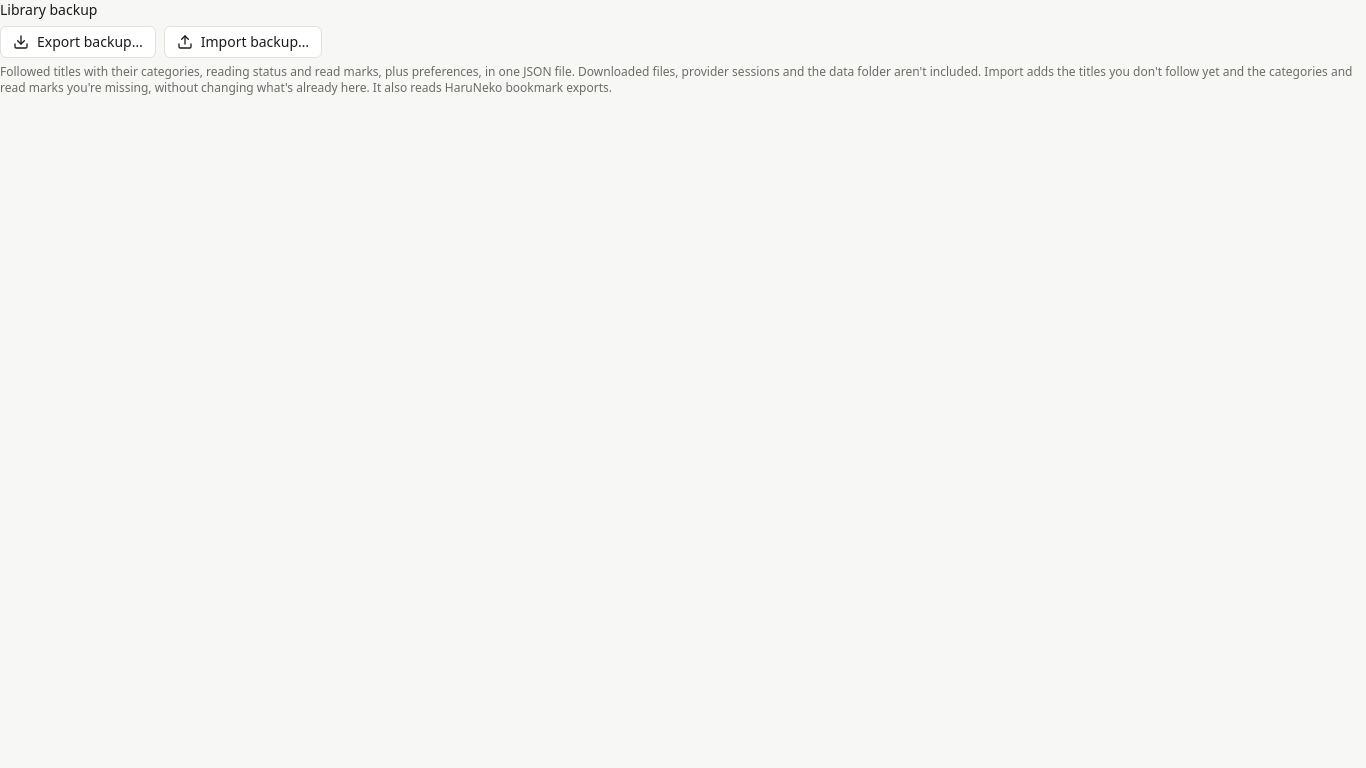
restore dialog › keeps your preferences by default when the library has titles
Click the button "Import backup…": point(243, 42) top-left (164, 26), bottom-right (322, 58)
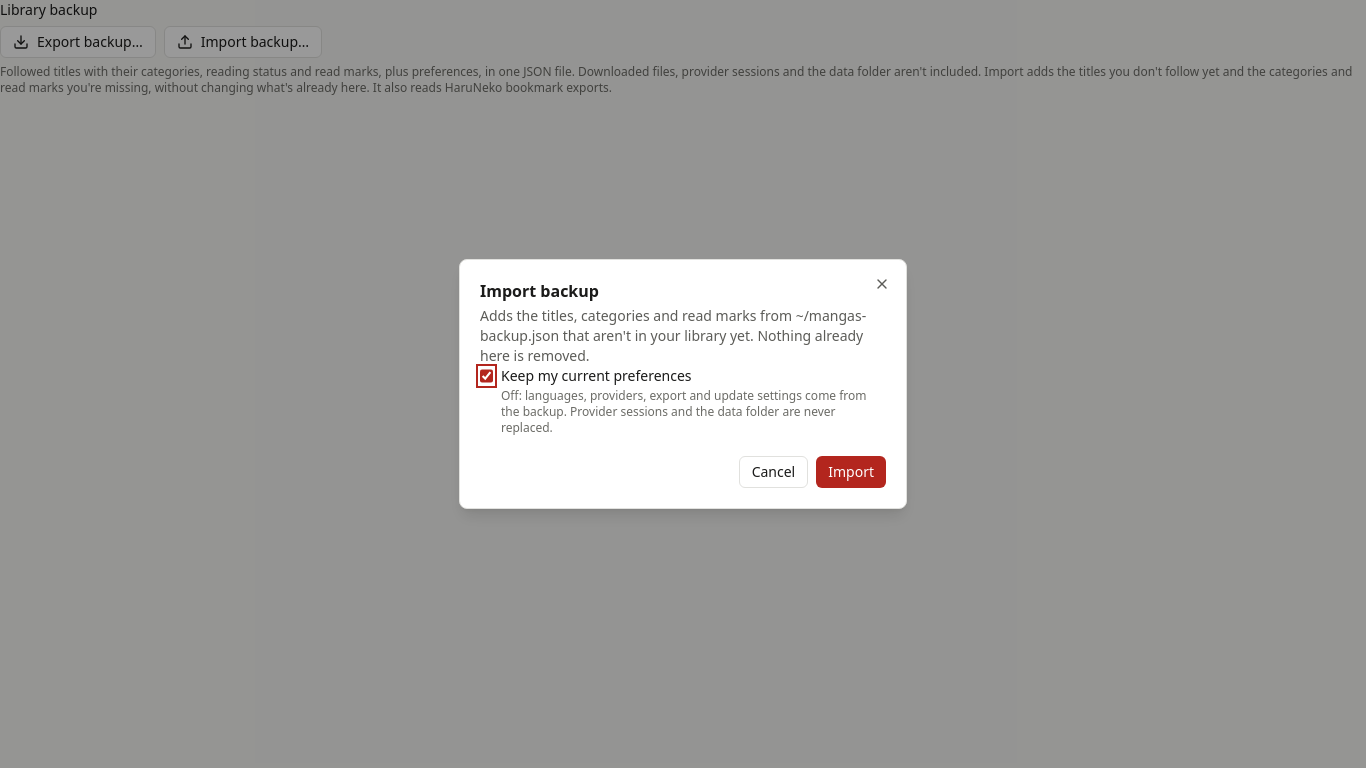
Expected: the checkbox labelled "Keep my current preferences" is checked, top-left (480, 368), bottom-right (493, 384)
Expected: the button "Import" is enabled
Click the button "Import": point(851, 472) top-left (816, 456), bottom-right (886, 488)
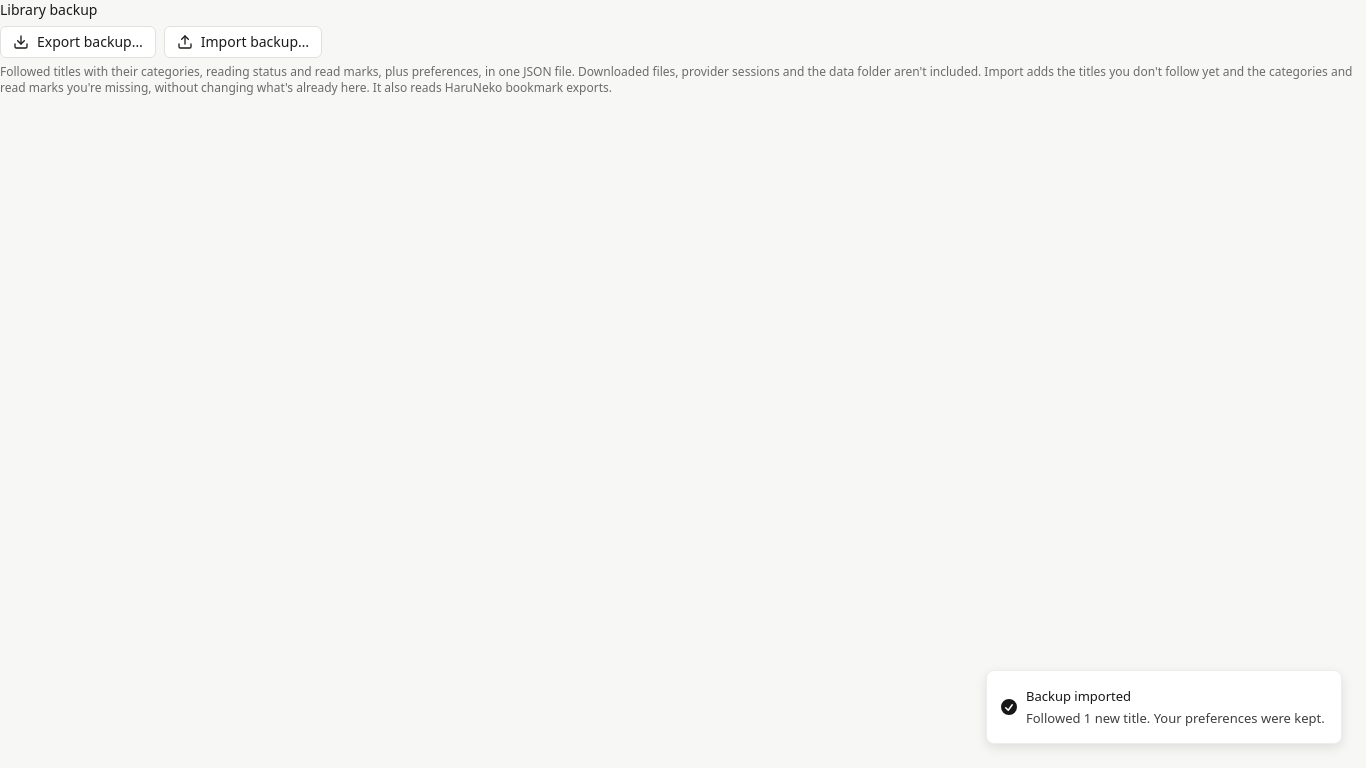
Expected: the text "Followed 1 new title. Your preferences were kept." is shown, top-left (1026, 709), bottom-right (1325, 727)
